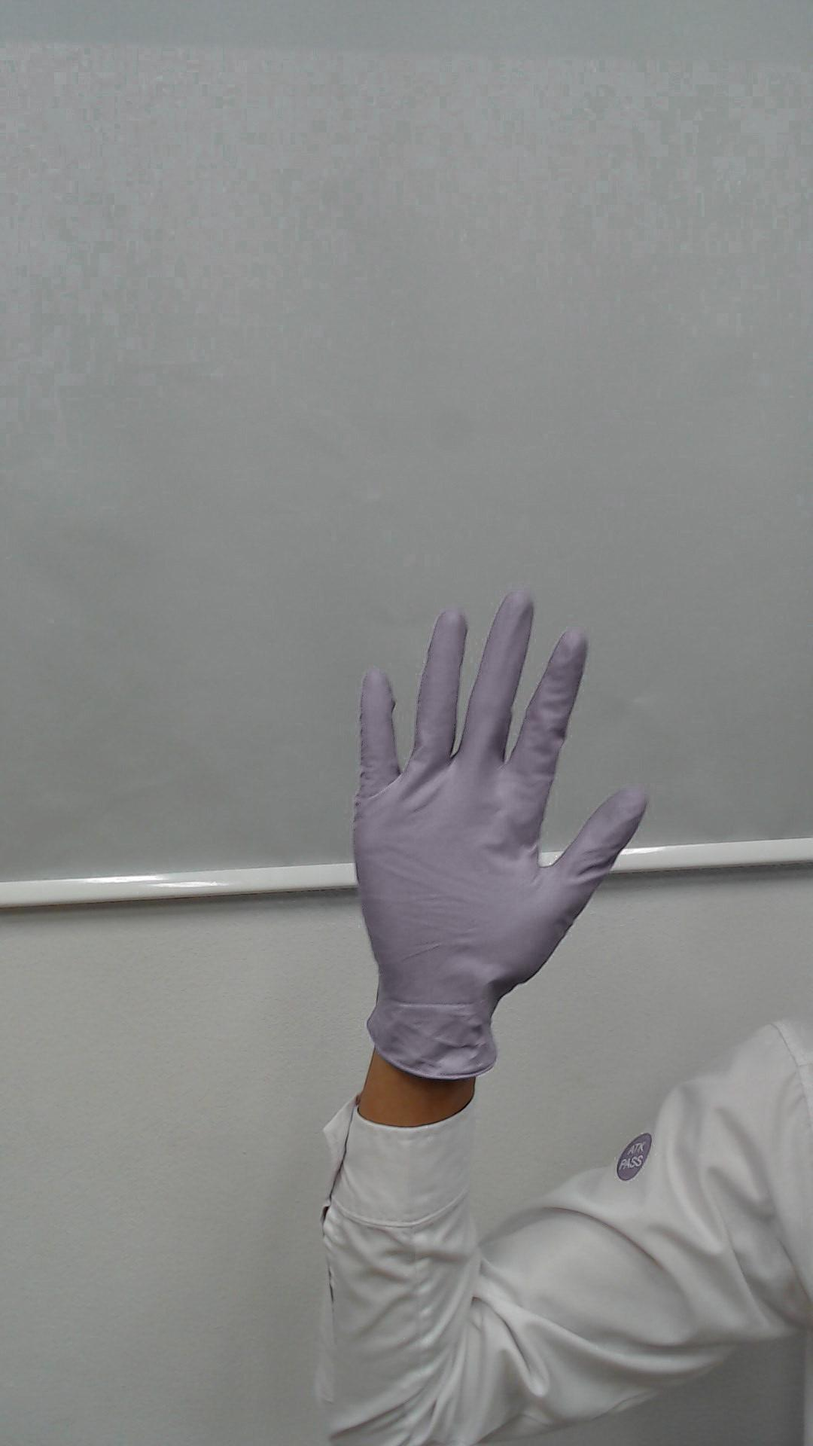gloves: (291, 550, 678, 1032)
